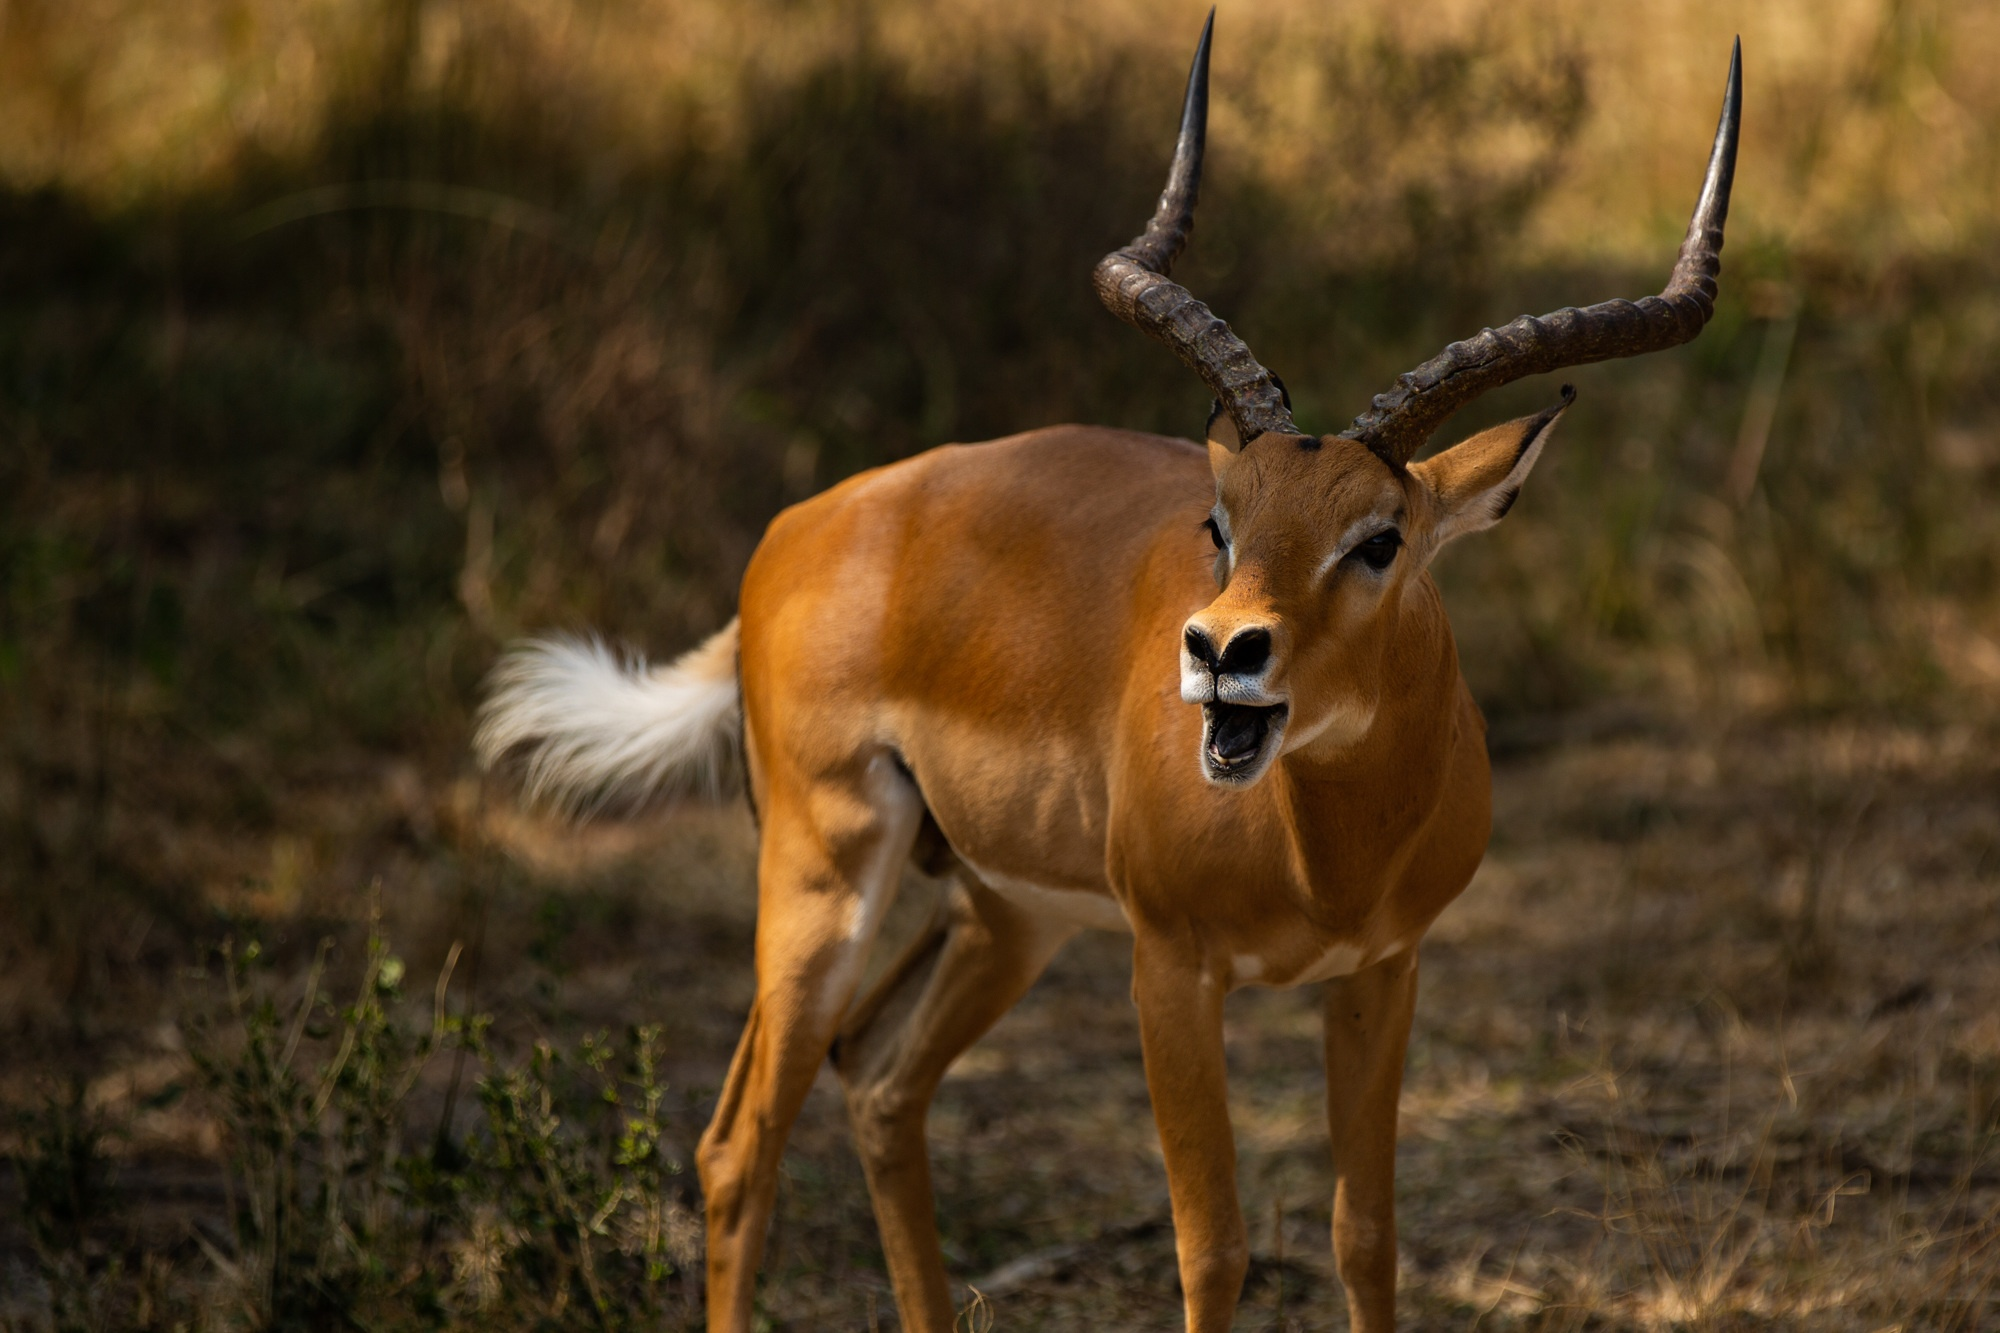impala: (459, 6, 1761, 1333)
